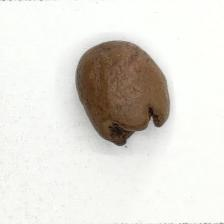NG: (105, 99, 170, 146)
